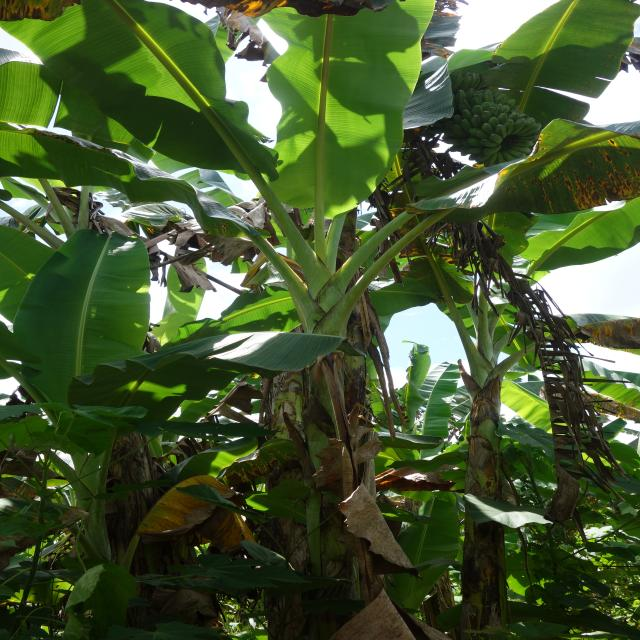Banana-plant: (262, 171, 397, 640)
